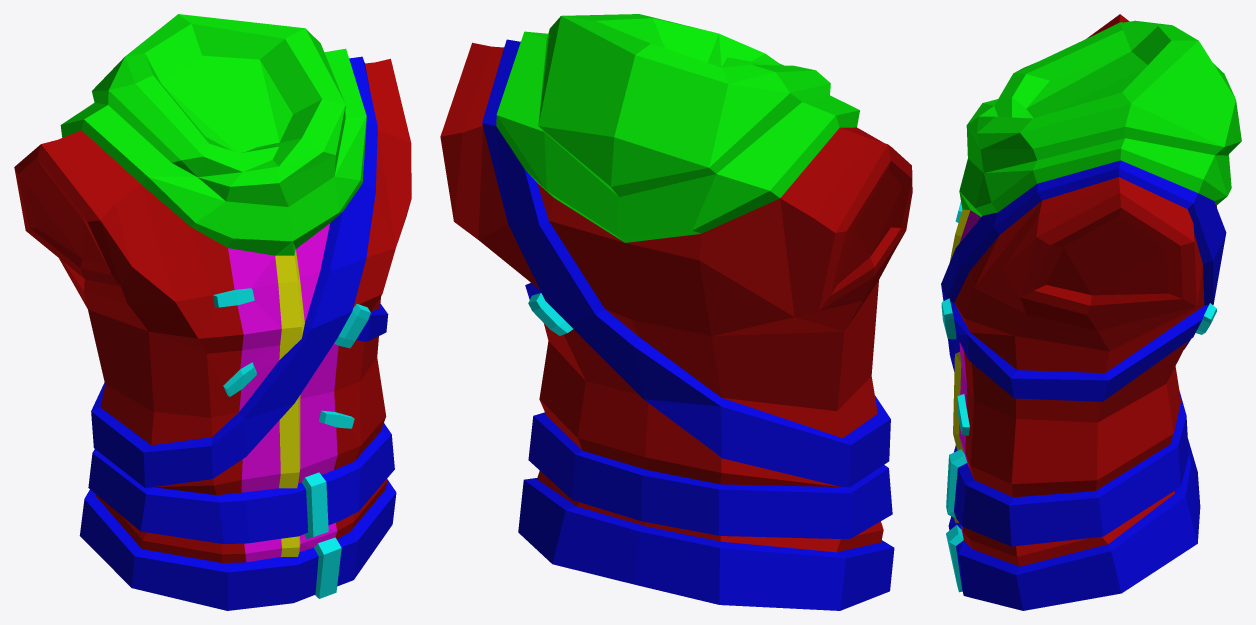
Rendered from Chr_Torso_Male_Static_07.fbx.
The picture shows the model from 3 angles, left to right: view 1: azimuth 30°, elevation 25°; view 2: azimuth 150°, elevation 25°; view 3: azimuth 270°, elevation 25°; orthographic projection. The views are drawn at different scales.
Visible parts, largest first — view 1: Chr_Torso_Male_07; view 2: Chr_Torso_Male_07; view 3: Chr_Torso_Male_07.
Part boxes in pixels (x1=…): Chr_Torso_Male_07: x1=14, y1=14, x2=411, y2=610; Chr_Torso_Male_07: x1=440, y1=14, x2=912, y2=610; Chr_Torso_Male_07: x1=941, y1=14, x2=1241, y2=610.
Size of the model in its own units: 50.2 by 68.27 by 35.09.
